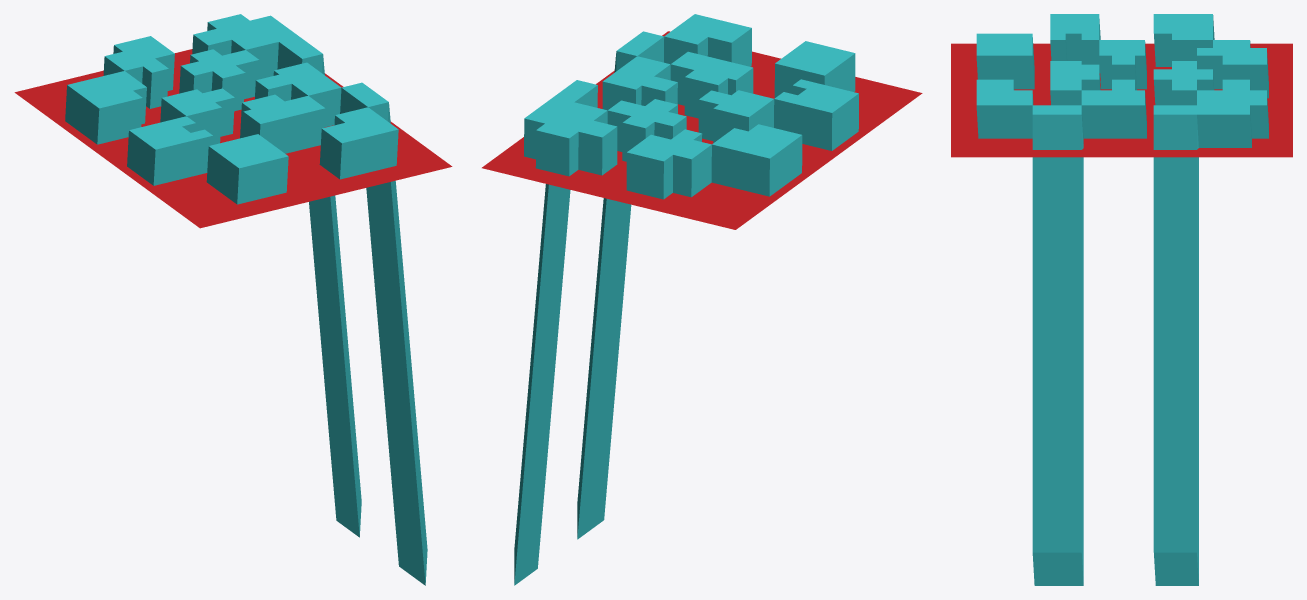
The model's file is vgec.fbx.
The picture shows the model from 3 angles, left to right: view 1: azimuth 30°, elevation 25°; view 2: azimuth 150°, elevation 25°; view 3: azimuth 270°, elevation 25°; orthographic projection. The views are drawn at different scales.
Visible parts, largest first — view 1: Plane, Plane.001; view 2: Plane, Plane.001; view 3: Plane, Plane.001.
Boxes of the visible parts, box(x1,y1,x2,y2) form: Plane: box(65, 14, 427, 585); Plane.001: box(14, 49, 452, 228); Plane: box(514, 14, 858, 585); Plane.001: box(482, 31, 922, 229); Plane: box(976, 14, 1268, 585); Plane.001: box(951, 43, 1292, 157).
Size of the model in its own units: 1038 by 1802 by 1229.
